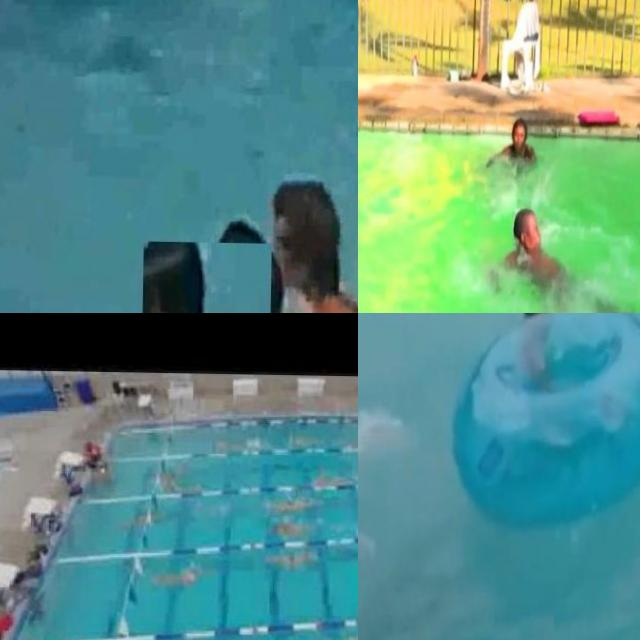drowning: (490, 223, 634, 313)
swimming: (269, 176, 358, 313), (138, 241, 271, 313), (483, 117, 543, 188), (160, 562, 203, 594), (274, 540, 316, 572), (281, 433, 322, 458), (268, 489, 310, 512), (268, 516, 308, 540), (304, 629, 358, 640)
